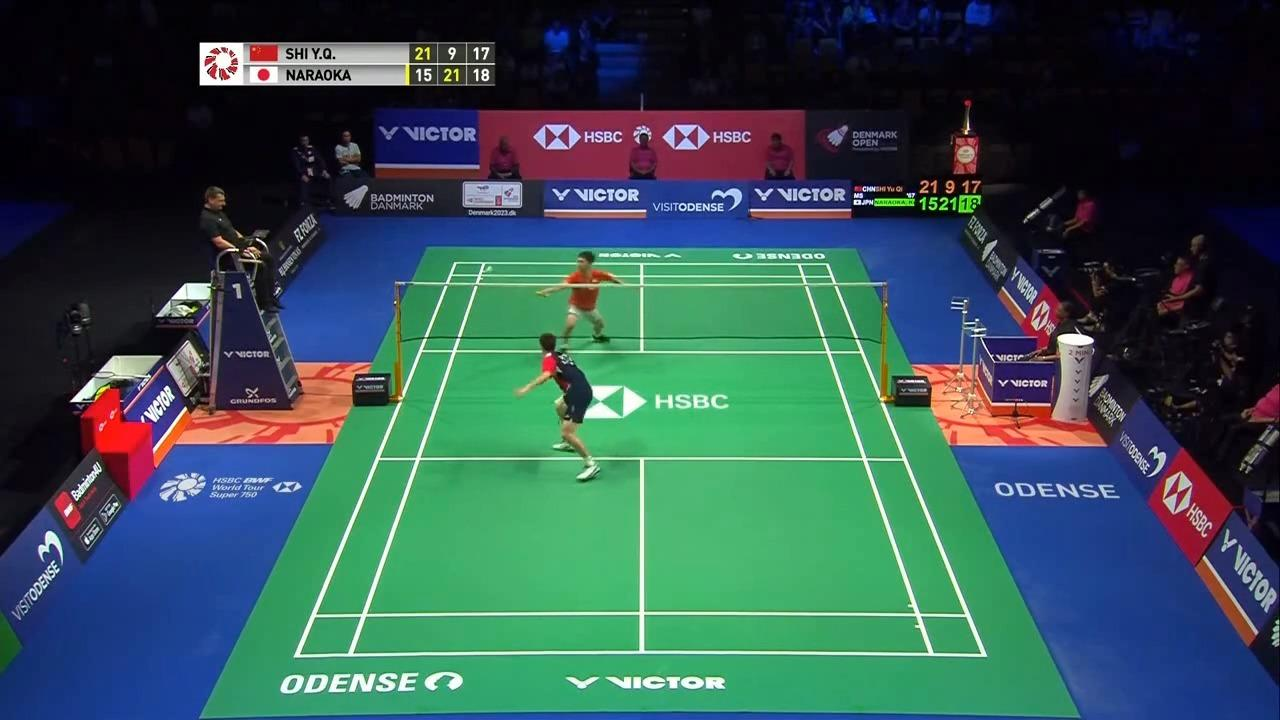shuttle: (485, 265, 492, 277)
